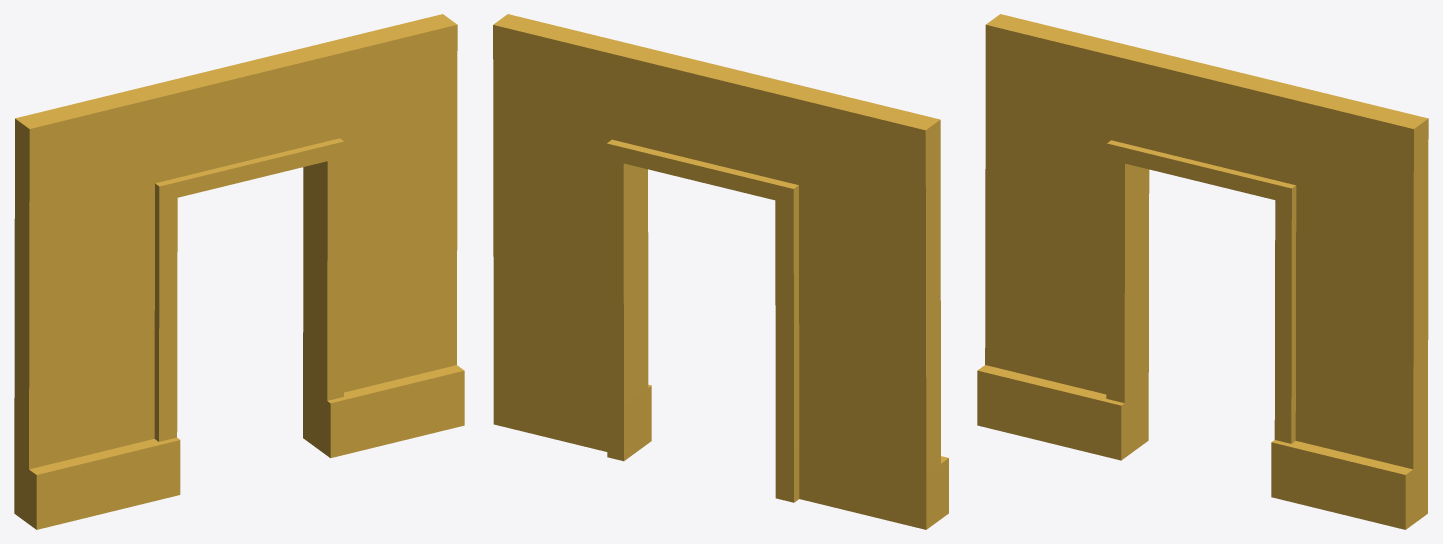
The model's file is env_ParedeEntrada.fbx.
3 renders of one model, left to right at view 1: azimuth 30°, elevation 25°; view 2: azimuth 150°, elevation 25°; view 3: azimuth 330°, elevation 25°, orthographic.
Parts seen in each view (by area): view 1: env_entrada; view 2: env_entrada; view 3: env_entrada.
Part boxes in pixels (left/top/right/bottom): env_entrada: left=14, top=14, right=464, bottom=529; env_entrada: left=493, top=14, right=948, bottom=529; env_entrada: left=977, top=14, right=1428, bottom=529.
Size of the model in its own units: 3595 by 3168 by 399.
